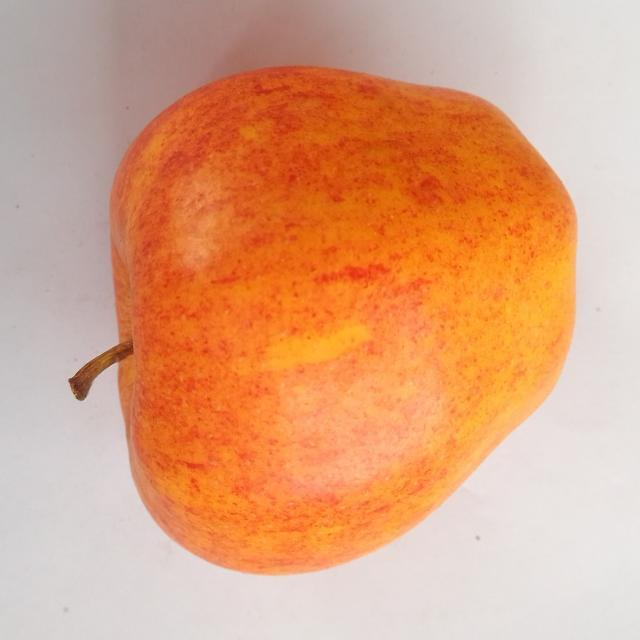Fresh Apple: (106, 66, 576, 576)
